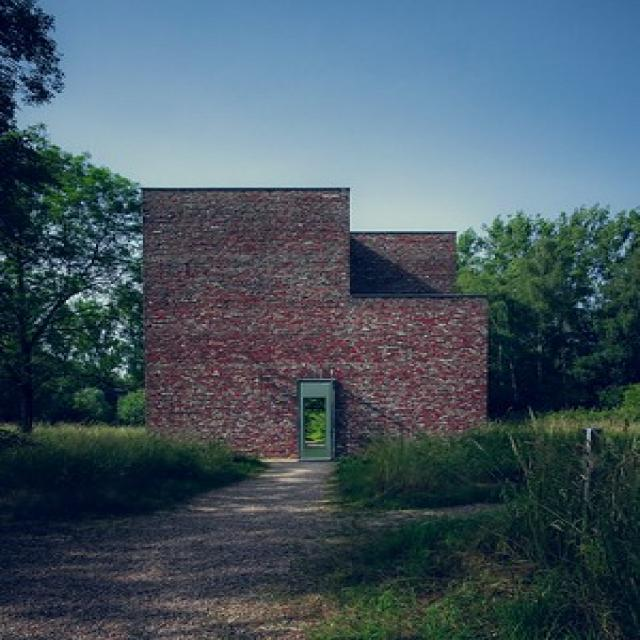Normal_building: (134, 182, 500, 468)
